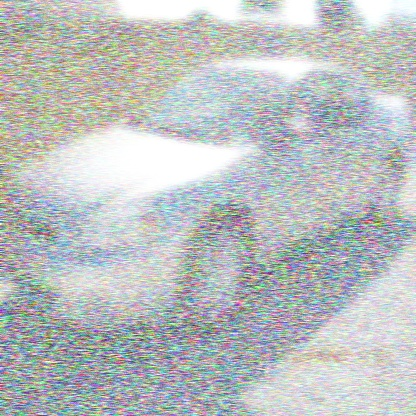Vehicle: (4, 54, 415, 339)
